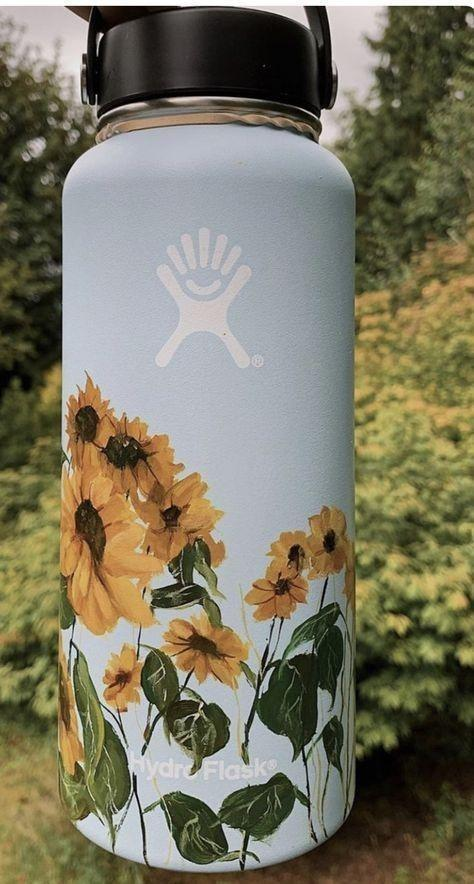gym bottle: (53, 1, 357, 878)
